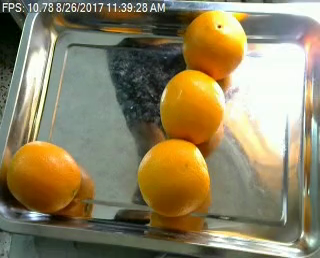Orange: (137, 139, 211, 216), (5, 141, 80, 211), (159, 70, 225, 145), (182, 8, 248, 78)
